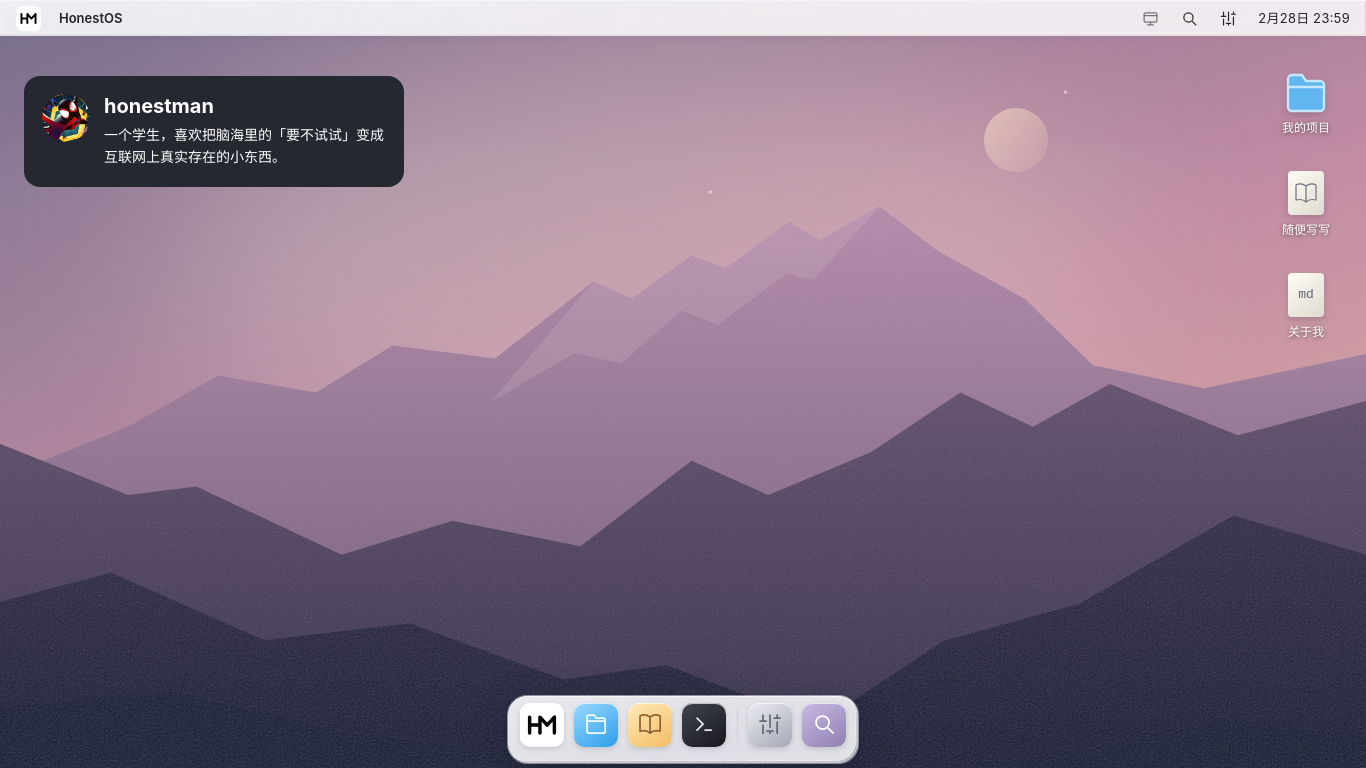
Test: refreshes the local clock after returning to a suspended page and coordinates desktop popovers
The image size is (1366, 768).
Click the button named "打开终端".
click(704, 730)  # box [680,702,728,758]
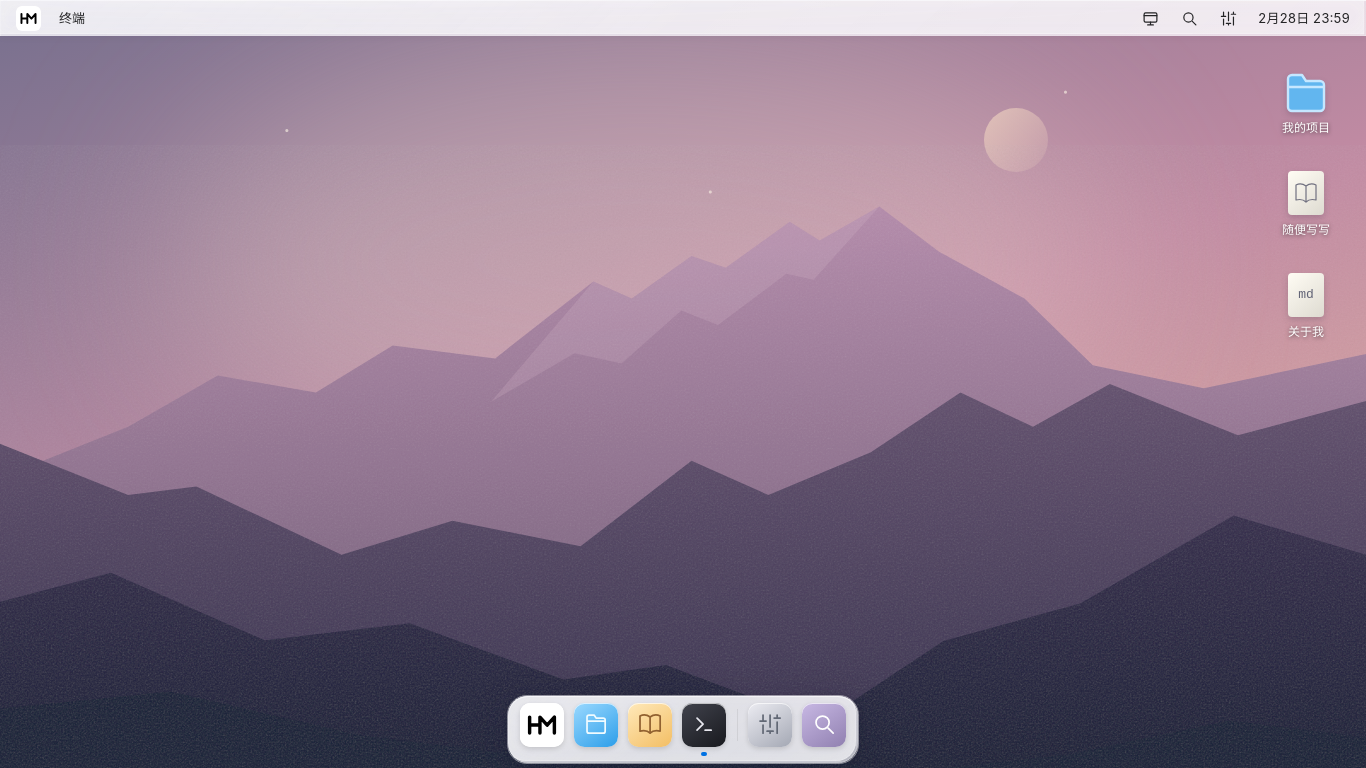
Click the button named "日期与时间".
click(1304, 18)  # box [1250,3,1358,33]
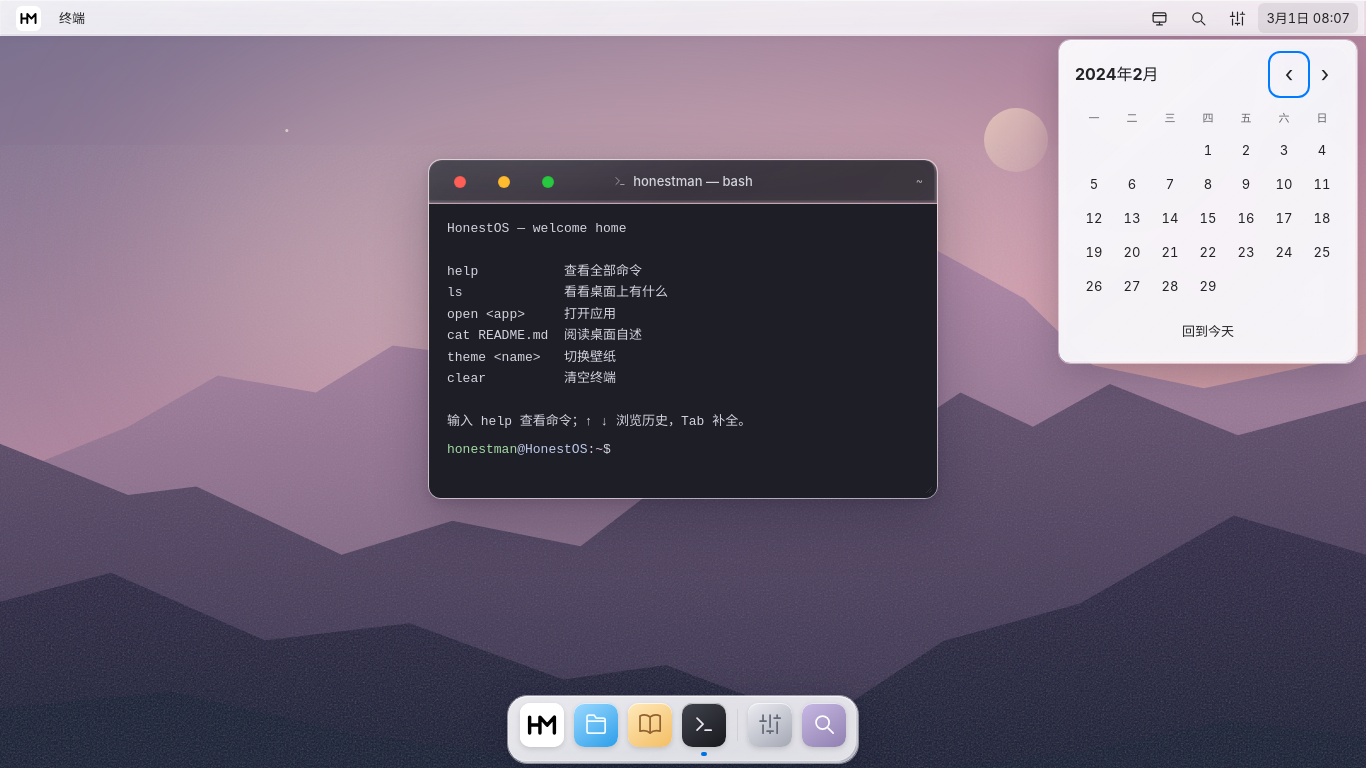
expect the button named "日期与时间" shows "3月1日": met, box [1258,3,1358,33]
expect the button named "日期与时间" shows "08:07": met, box [1258,3,1358,33]
Click the button named "控制中心".
click(1237, 18)  # box [1219,3,1255,33]
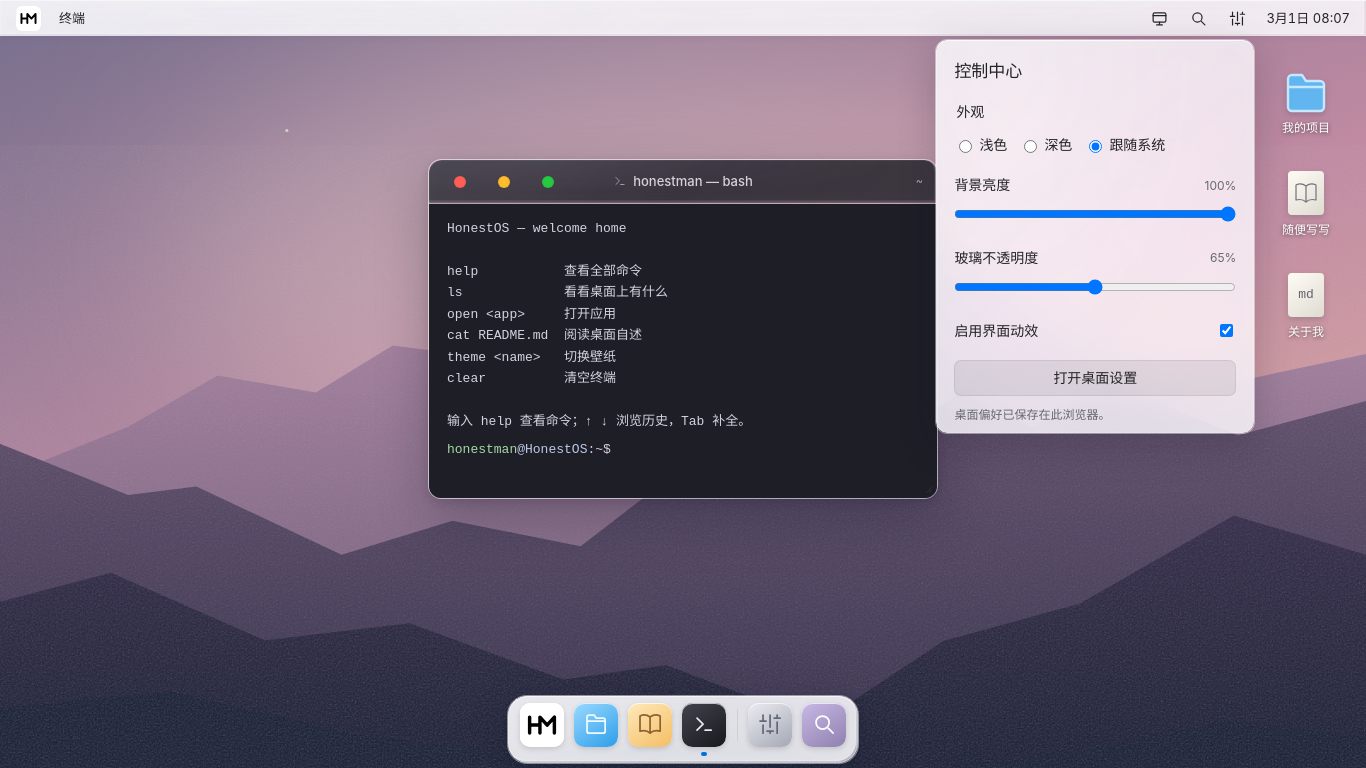
Click the button named "日期与时间".
click(1308, 18)  # box [1258,3,1358,33]
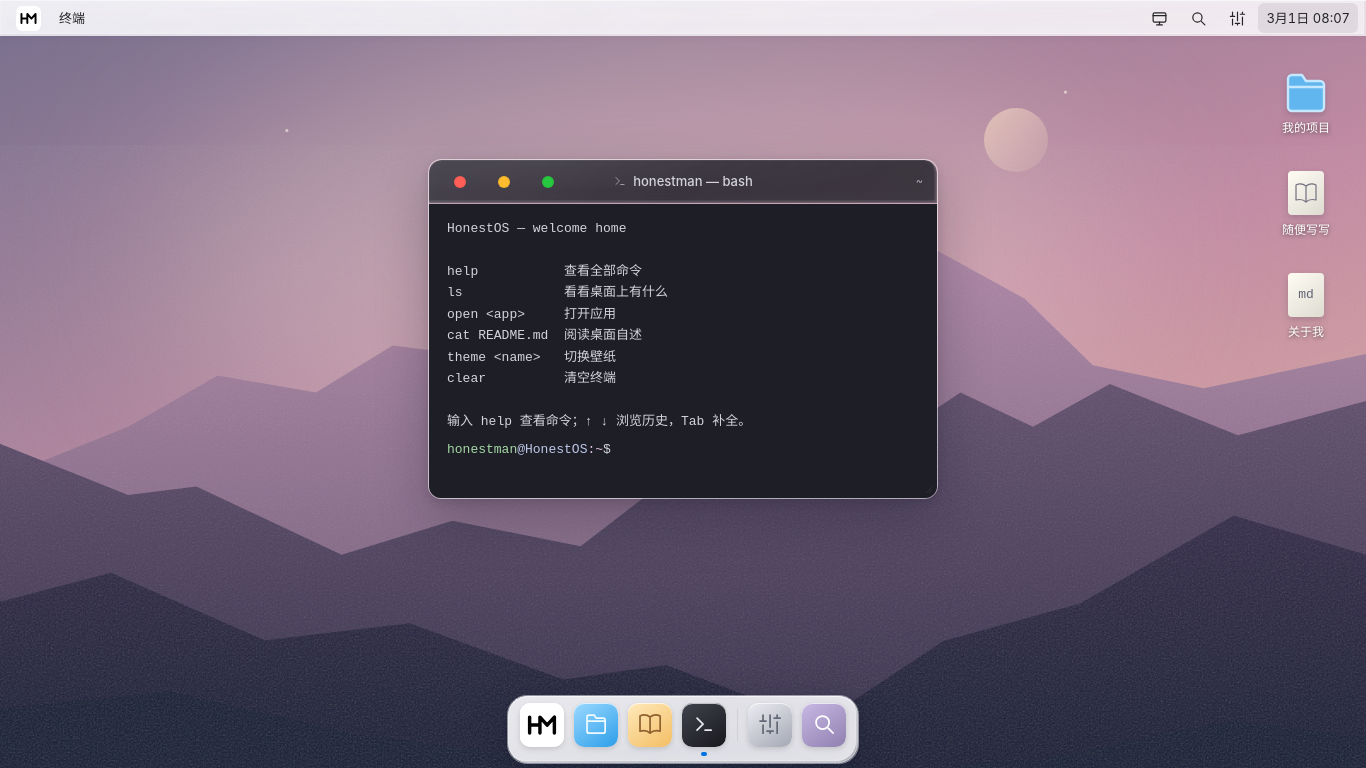
expect the heading "控制中心" is gone: met
Press k
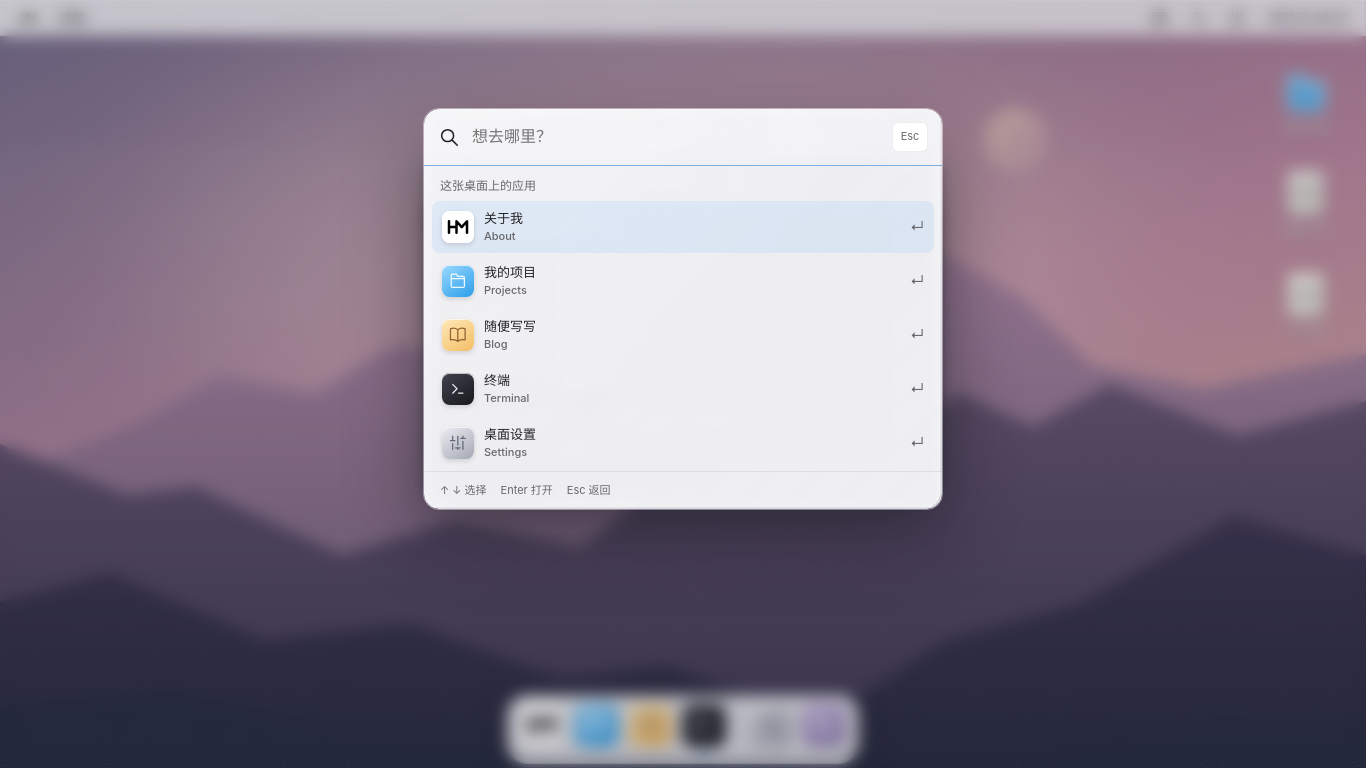
expect the dropdown is shown: met, box [470,118,882,154]
